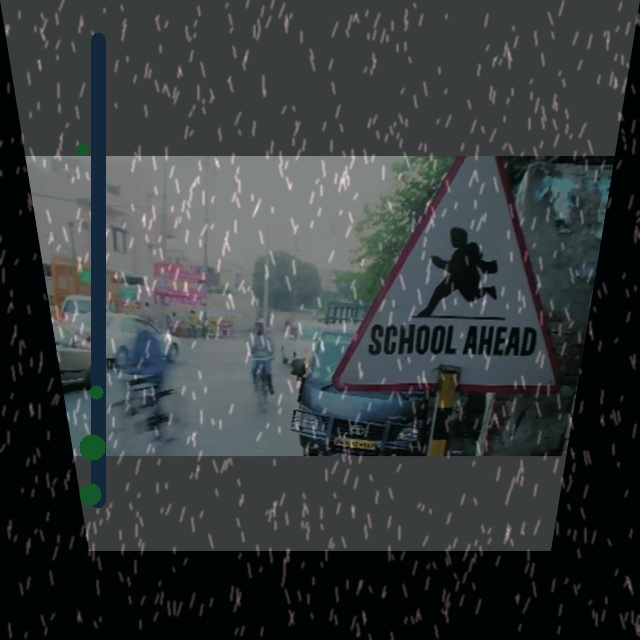School_Ahead: (355, 182, 574, 373)
